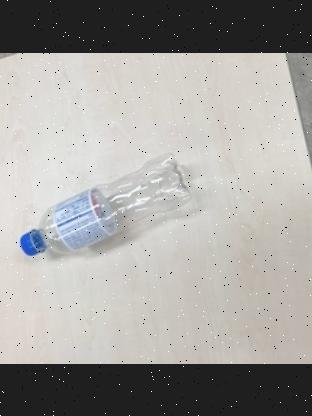Plastic Bottle: (14, 151, 196, 257)
